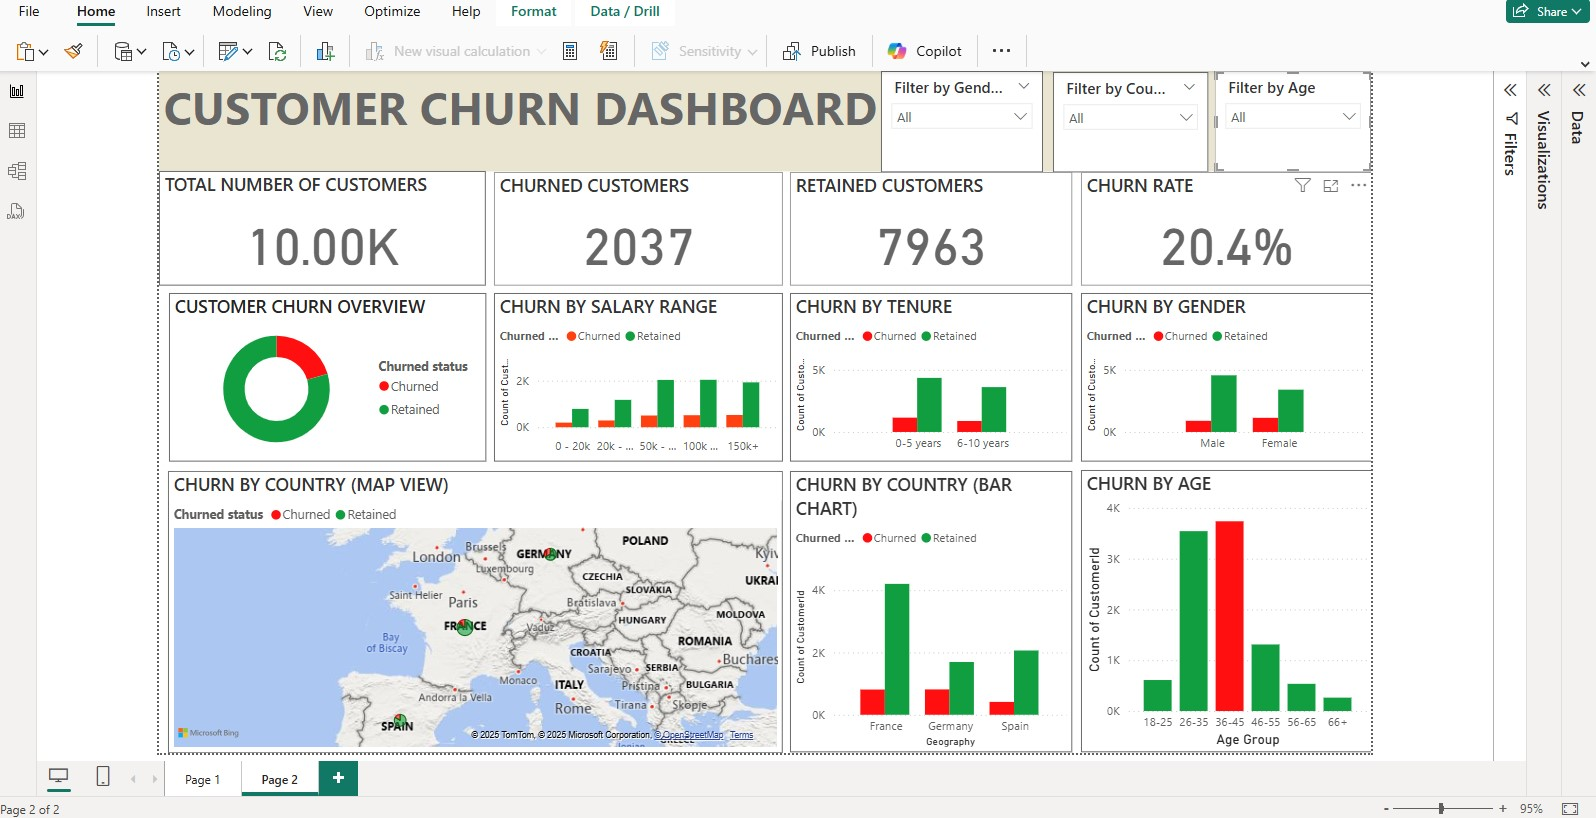

Layout of this report page (visuals, bound fields, positions):
{"tool":"powerbi","page":{"name":"Page 2","canvas":[1280,720],"ordinal":1},"visuals":[{"type":"textbox","box":[0,0,1280.5,105.9],"z":0},{"type":"card","title":"TOTAL NUMBER OF CUSTOMERS","fields":{"Values":["CountNonNull(Bank_Churn.CustomerId)"]},"box":[0,105.9,345.2,120.8],"z":1000},{"type":"card","title":" CHURNED CUSTOMERS","fields":{"Values":["Count(Bank_Churn.CustomerId)"]},"box":[353.2,107.1,305.3,119.6],"z":2000},{"type":"card","title":"RETAINED CUSTOMERS","fields":{"Values":["CountNonNull(Bank_Churn.CustomerId)"]},"box":[666.5,107.1,298.5,119.6],"z":3000},{"type":"map","title":"CHURN BY COUNTRY (MAP VIEW)","fields":{"Category":["Bank_Churn.Geography"],"Size":["CountNonNull(Bank_Churn.CustomerId)"],"Series":["Bank_Churn.Churned status"]},"box":[10,422.5,648.8,297.5],"z":4000},{"type":"clusteredColumnChart","title":"CHURN BY COUNTRY (BAR  CHART)","fields":{"Category":["Bank_Churn.Geography"],"Y":["CountNonNull(Bank_Churn.CustomerId)"],"Series":["Bank_Churn.Churned status"]},"box":[666.5,422.7,298.5,297.3],"z":5000},{"type":"clusteredColumnChart","title":"CHURN BY GENDER","fields":{"Category":["Bank_Churn.Gender"],"Y":["CountNonNull(Bank_Churn.CustomerId)"],"Series":["Bank_Churn.Churned status"]},"box":[972.9,234.7,307.6,177.7],"z":6000},{"type":"clusteredColumnChart","title":"CHURN BY AGE","fields":{"Category":["Bank_Churn.Age Group"],"Y":["CountNonNull(Bank_Churn.CustomerId)"]},"box":[972.9,421.5,307.6,298.5],"z":7000},{"type":"clusteredColumnChart","title":"CHURN BY TENURE","fields":{"Category":["Bank_Churn.Tenure Group"],"Y":["CountNonNull(Bank_Churn.CustomerId)"],"Series":["Bank_Churn.Churned status"]},"box":[666.5,234.7,298.5,177.7],"z":8000},{"type":"clusteredColumnChart","title":"CHURN BY SALARY RANGE","fields":{"Category":["Bank_Churn (2).Salary Group"],"Y":["CountNonNull(Bank_Churn (2).CustomerId)"],"Series":["Bank_Churn (2).Churned status"]},"box":[353.2,234.7,305.3,177.7],"z":9000},{"type":"slicer","fields":{"Values":["Bank_Churn.Geography"]},"box":[943.3,1.1,164.1,105.9],"z":10000},{"type":"slicer","fields":{"Values":["Bank_Churn.Gender"]},"box":[762.2,0,170.9,107.1],"z":11000},{"type":"slicer","fields":{"Values":["Bank_Churn.Age Group"]},"box":[1115.3,0,165.2,107.1],"z":12000},{"type":"card","title":"CHURN RATE","fields":{"Values":["Bank_Churn.Churn Rate (%)"]},"box":[972.9,107.1,307.6,119.6],"z":13000},{"type":"donutChart","title":" CUSTOMER CHURN OVERVIEW","fields":{"Y":["CountNonNull(Bank_Churn.CustomerId)"],"Series":["Bank_Churn.Churned status"]},"box":[10.3,234.7,334.9,177.7],"z":14000}]}

Visuals, with their boxes on the page's 1280x720 design canvas (x1, y1, x2, y2). These are canvas units, not pixel positions in the 1596x818 screenshot, which may show the page scaled, cropped or inside an application window:
textbox: 0/0/1280/106
"TOTAL NUMBER OF CUSTOMERS" card: 0/106/345/227
" CHURNED CUSTOMERS" card: 353/107/658/227
"RETAINED CUSTOMERS" card: 666/107/965/227
"CHURN BY COUNTRY (MAP VIEW)" map: 10/422/659/720
"CHURN BY COUNTRY (BAR  CHART)" clusteredColumnChart: 666/423/965/720
"CHURN BY GENDER" clusteredColumnChart: 973/235/1280/412
"CHURN BY AGE" clusteredColumnChart: 973/422/1280/720
"CHURN BY TENURE" clusteredColumnChart: 666/235/965/412
"CHURN BY SALARY RANGE" clusteredColumnChart: 353/235/658/412
slicer - Bank_Churn.Geography: 943/1/1107/107
slicer - Bank_Churn.Gender: 762/0/933/107
slicer - Bank_Churn.Age Group: 1115/0/1280/107
"CHURN RATE" card: 973/107/1280/227
" CUSTOMER CHURN OVERVIEW" donutChart: 10/235/345/412
